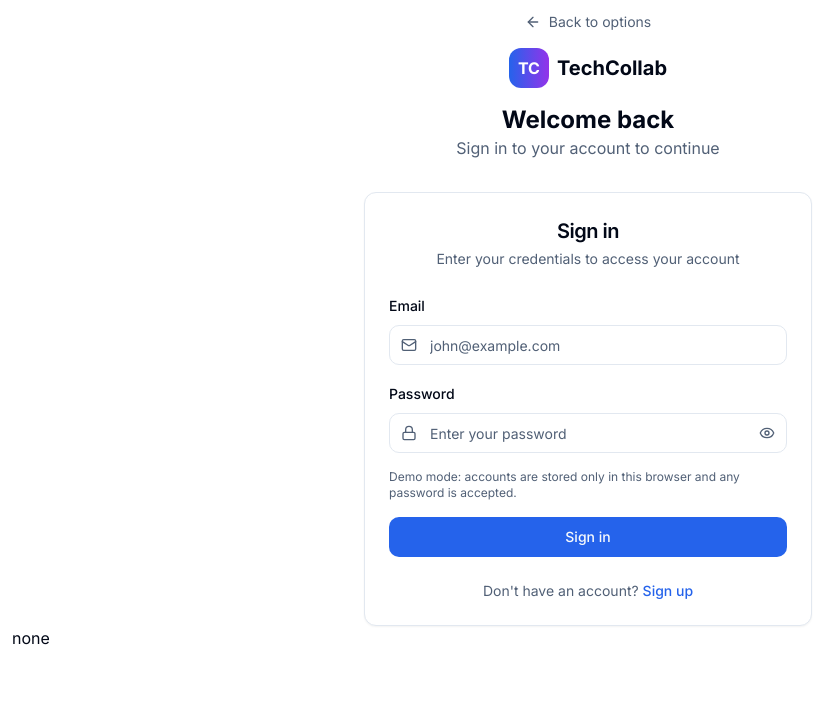
SignInPage › shows validation errors and does not navigate
Click the button "Sign in".
click(588, 537)  # box [389,517,787,557]
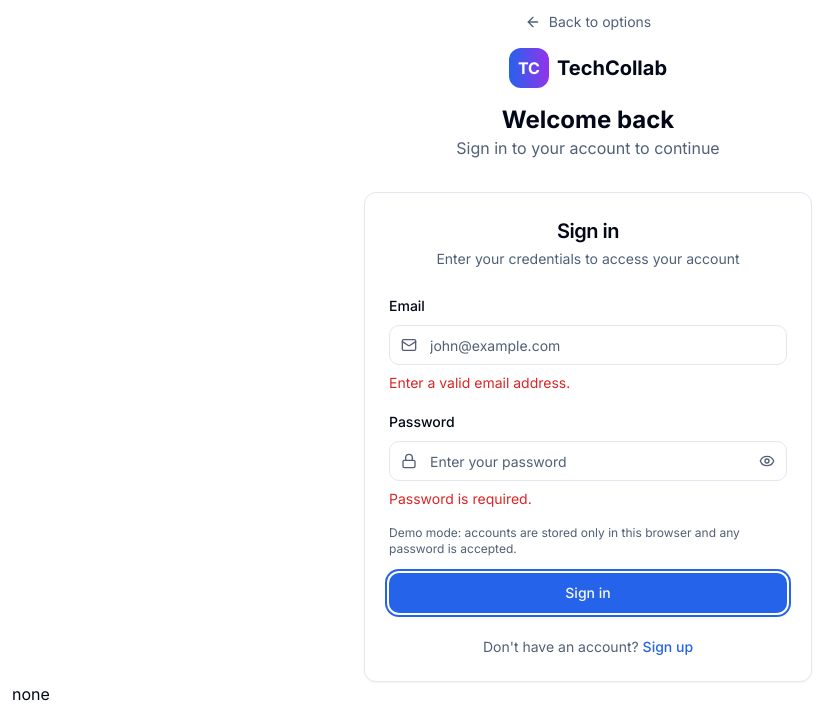
Now the text "Enter a valid email address." is shown, box [389,374,570,391]
Now the text "Password is required." is shown, box [389,490,532,507]
